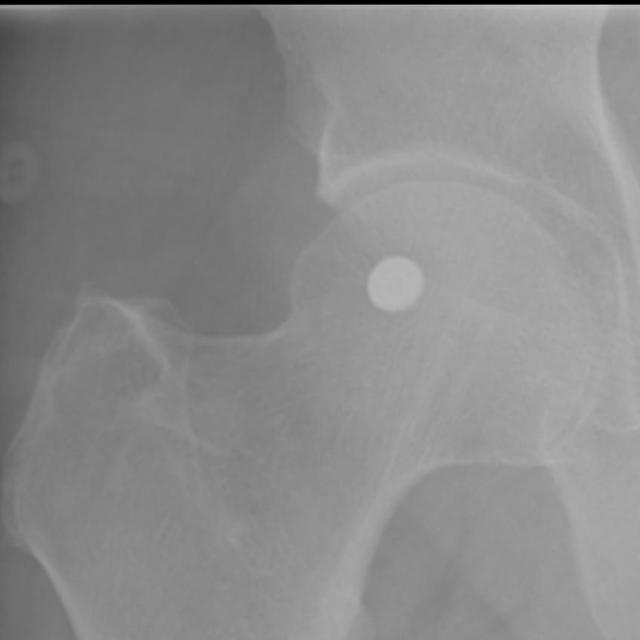Fitted_femural_head: (313, 176, 432, 313)
